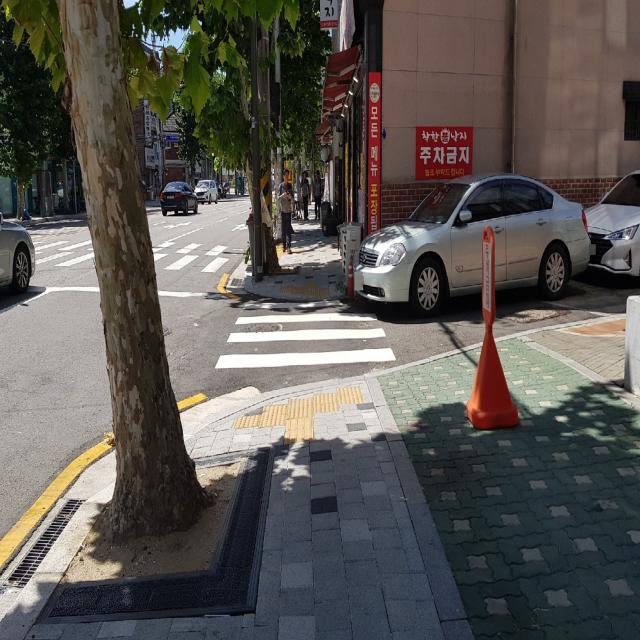횡단보도: (214, 299, 396, 369), (38, 237, 227, 269)
